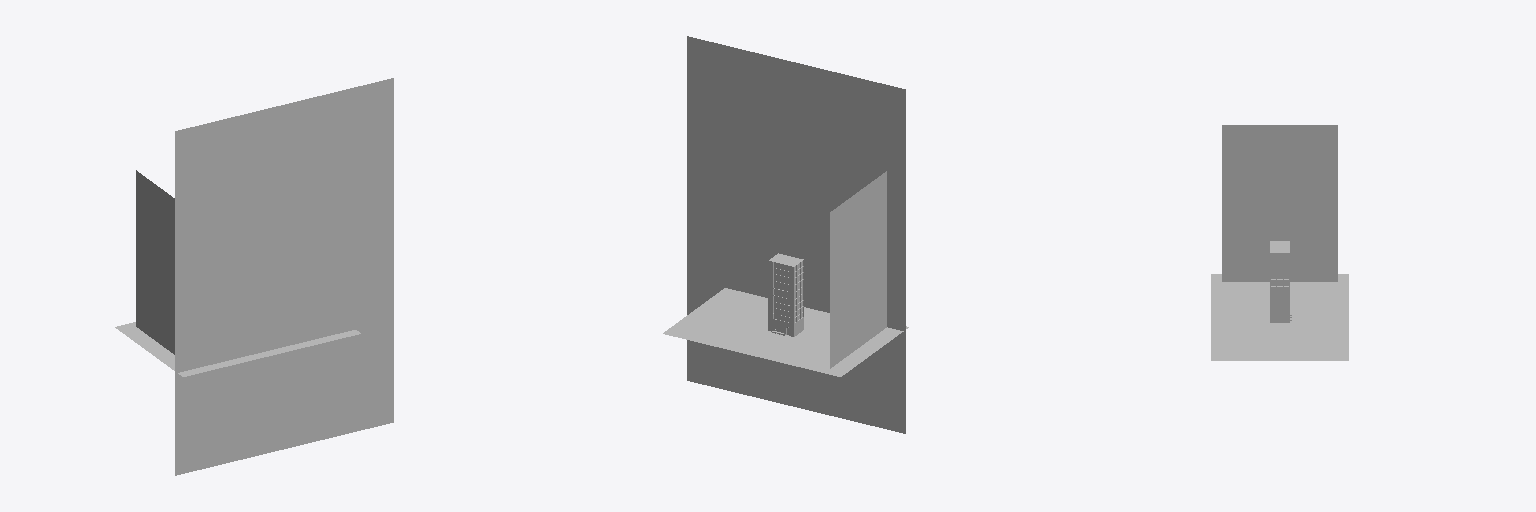
File: skyscraper.obj
3 renders of one model, left to right at view 1: azimuth 30°, elevation 25°; view 2: azimuth 150°, elevation 25°; view 3: azimuth 270°, elevation 25°, orthographic.
Parts seen in each view (by area): view 1: Plane.009_Plane.010, Plane.008_Plane.009, Plane; view 2: Plane.009_Plane.010, Plane.008_Plane.009, Plane, Cube_Cube.002, Plane.003_Plane.004; view 3: Plane.008_Plane.009, Plane, Cube_Cube.002, Plane.007_Plane.008.
Part boxes in pixels (bbox=[...]): Plane.009_Plane.010: bbox=[175, 78, 393, 475]; Plane.008_Plane.009: bbox=[136, 170, 174, 354]; Plane: bbox=[115, 322, 360, 376]; Plane.009_Plane.010: bbox=[687, 36, 905, 433]; Plane.008_Plane.009: bbox=[830, 171, 886, 368]; Plane: bbox=[663, 288, 908, 376]; Cube_Cube.002: bbox=[768, 253, 803, 336]; Plane.003_Plane.004: bbox=[774, 262, 789, 322]; Plane.008_Plane.009: bbox=[1222, 125, 1337, 281]; Plane: bbox=[1211, 274, 1348, 360]; Cube_Cube.002: bbox=[1270, 241, 1289, 322]; Plane.007_Plane.008: bbox=[1271, 253, 1288, 309].
Bounding box in the file's own units: 20.79 × 31.21 × 11.27.